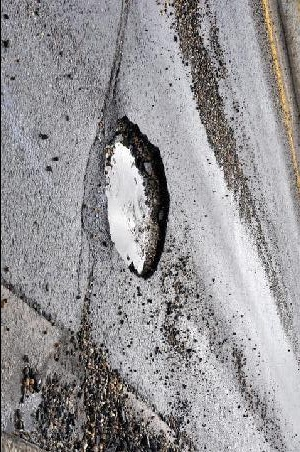pothole: (103, 112, 172, 283)
